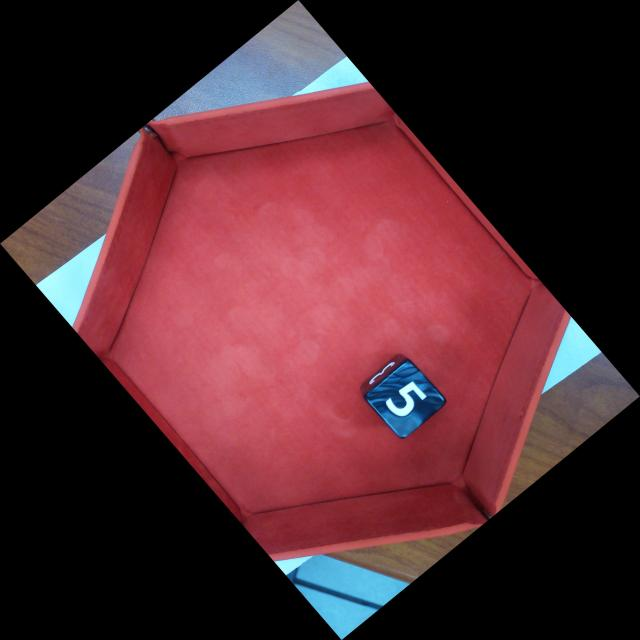dice: (359, 357, 448, 441)
